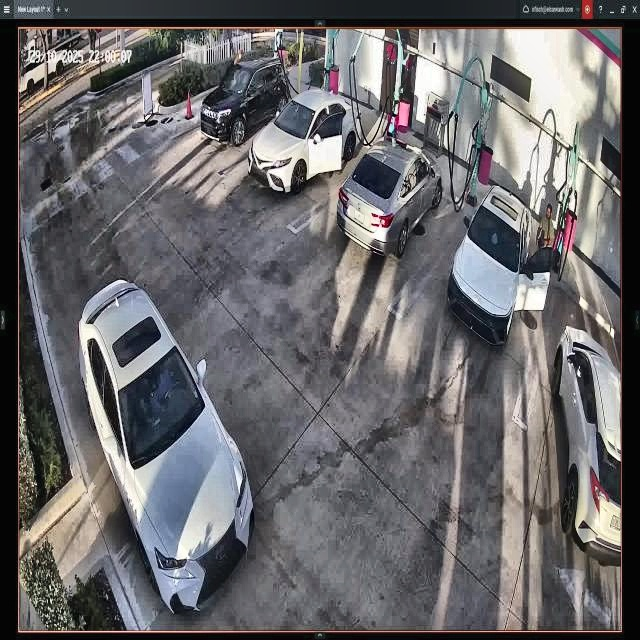Car: (78, 276, 256, 614), (448, 188, 551, 348), (338, 141, 443, 256), (252, 91, 360, 192), (201, 57, 291, 144)
